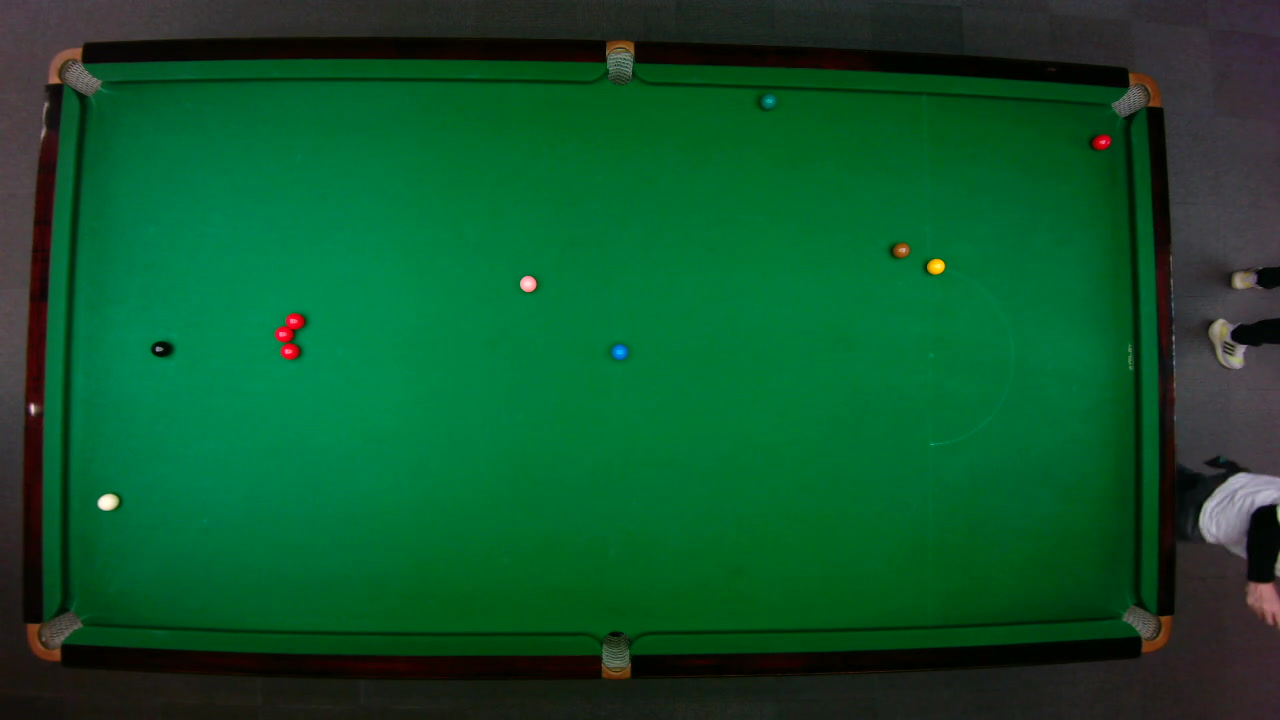bag: (25, 609, 84, 661), (45, 46, 102, 96), (1119, 603, 1172, 652), (1108, 71, 1162, 118), (600, 629, 629, 680), (605, 38, 633, 85)
black: (149, 339, 171, 357)
blue: (610, 343, 628, 360)
brown: (890, 241, 910, 258)
green: (759, 92, 776, 110)
pink: (517, 274, 537, 293)
red: (284, 311, 305, 330), (1090, 132, 1112, 150), (273, 324, 294, 342), (279, 342, 300, 360)
white: (95, 491, 120, 510)
yellow: (925, 257, 945, 275)
zone: (927, 264, 1013, 445)
